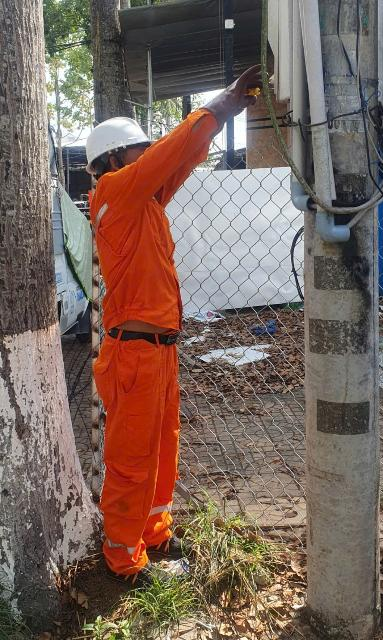gloves: (196, 64, 299, 132)
helmet: (63, 98, 163, 169)
shoes: (98, 544, 180, 600), (141, 524, 195, 567)
